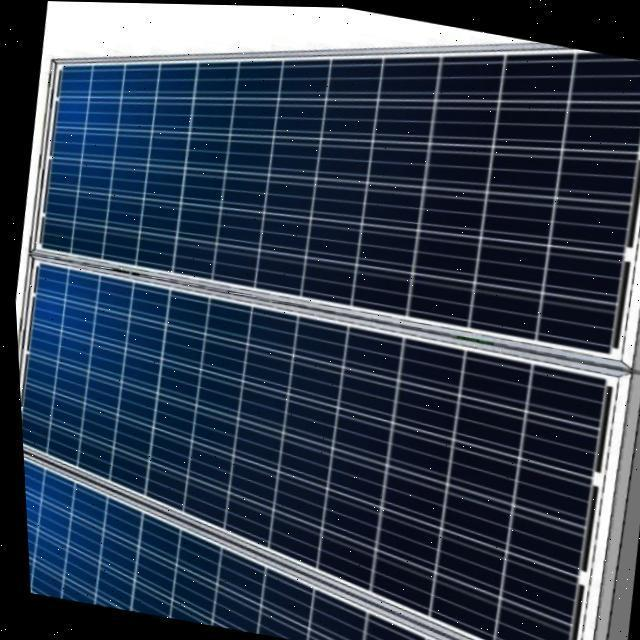Normal Solar Panel: (11, 266, 611, 640), (30, 1, 640, 354)
